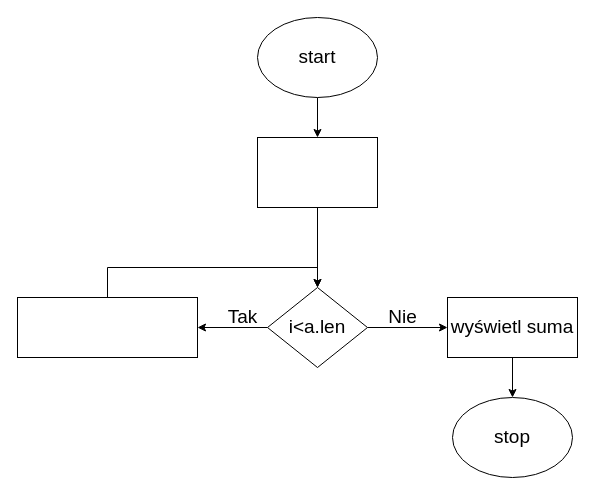
Some shapes in this 595 by 495 pixel diagram are drawn without their labels. Here are the shapes that lost their labels. From the top down, the centre of each, then its label:
At (x=317, y=172): "pobierz a i=0 suma=0".
At (x=107, y=327): "suma=suma+a[i] i+1".
